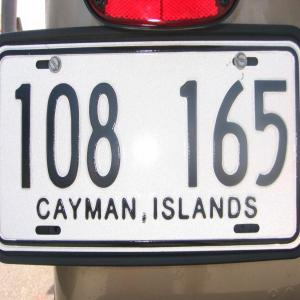Vehicle-registration-plate: (1, 24, 300, 267)
